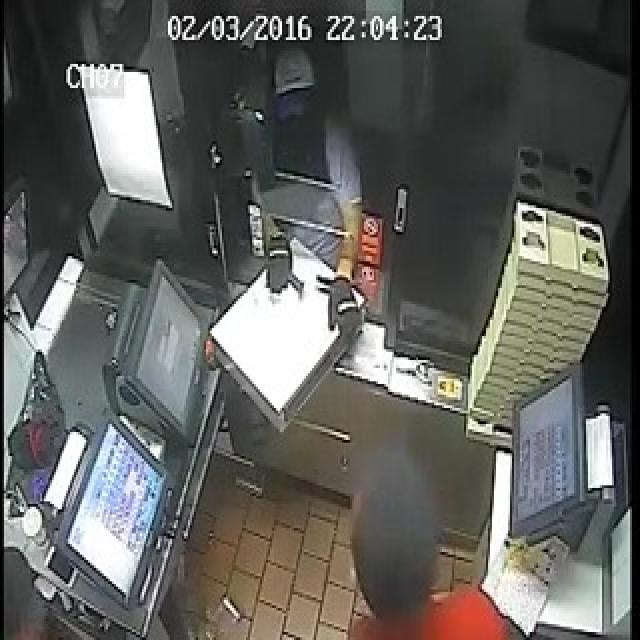thief: (227, 89, 368, 272)
